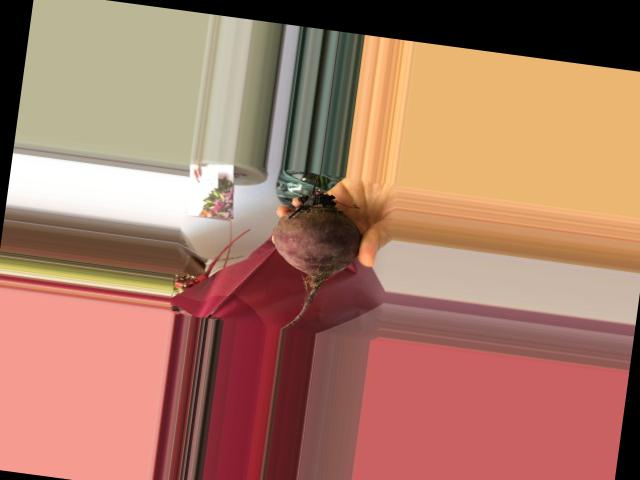beet: (260, 168, 368, 337)
